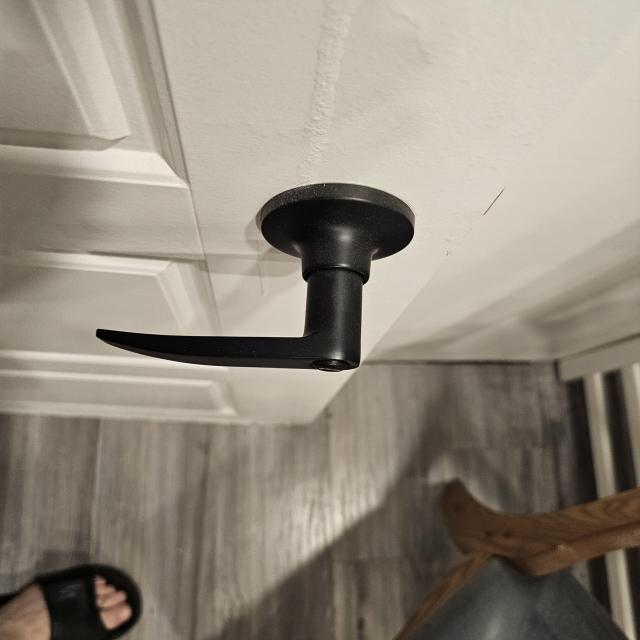door-handle: (96, 184, 415, 371)
